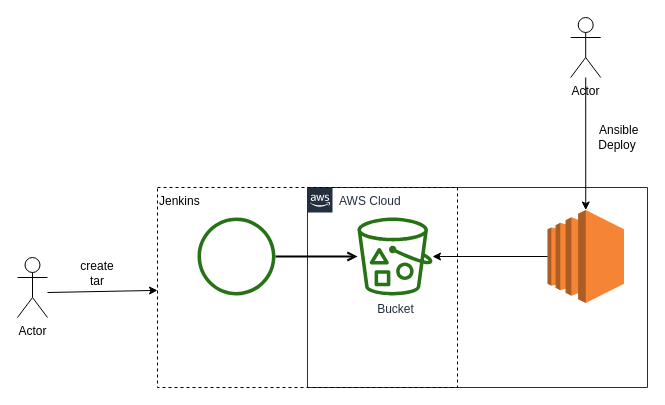
The diagram is 665 pixels wide and 405 high, and some of its shapes have lost their labels. Each missing label, with the centre of its shape:
Mgr01: point 585,256
Tarファイル: point 236,256
